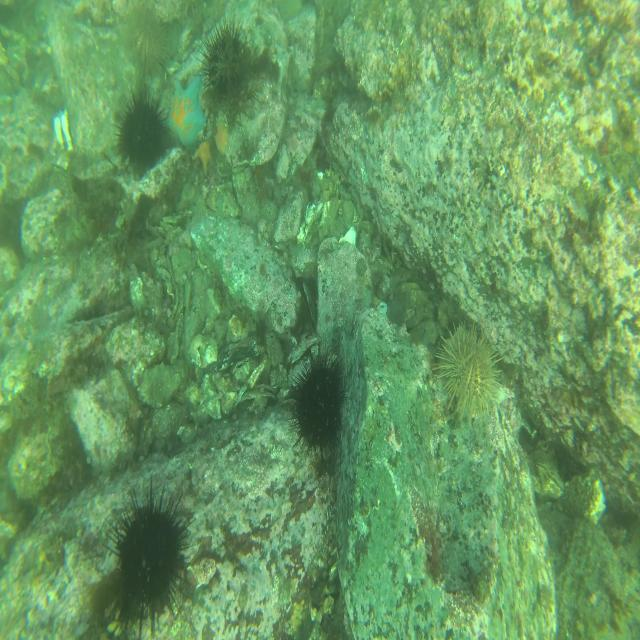echinus: (106, 481, 195, 630), (436, 318, 505, 420), (289, 350, 345, 463), (199, 14, 251, 105), (113, 90, 165, 174), (124, 7, 168, 79)
starfish: (162, 74, 206, 150), (193, 138, 212, 174), (212, 121, 231, 155)
